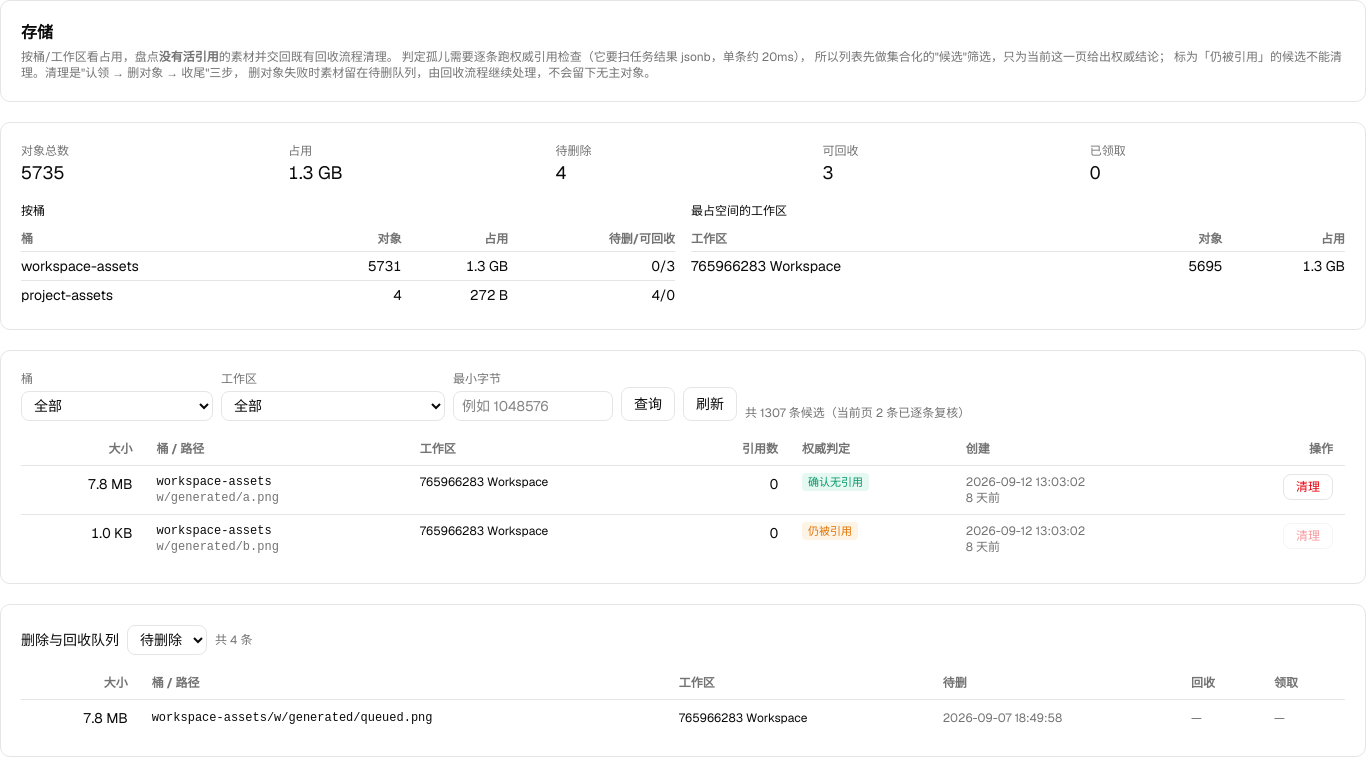
admin storage section › purges only after an inline reason and confirmation
expect the table with test id "admin-storage-orphans" is shown: met, box [21,433,1345,563]
Click the button "清理" in the row of "确认无引用" at point(1308, 487), box [1283,474,1333,500]
(page scrolled)
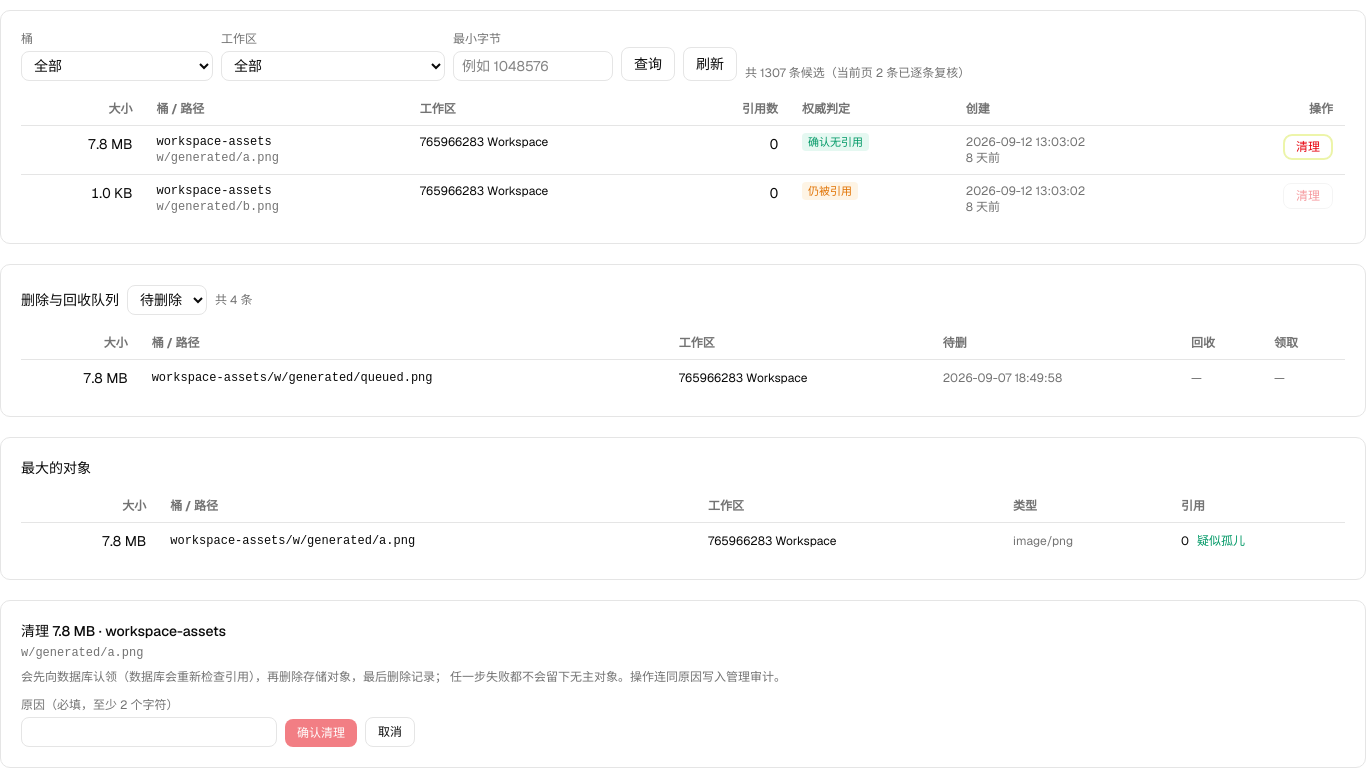
expect the element with test id "admin-storage-confirm" shows "workspace-assets": met, box [105,622,226,640]
expect the button "确认清理" is disabled: met, box [285,719,357,747]
Type "确认没有引用" into the field named "清理原因" at point(149, 732), box [21,717,277,747]
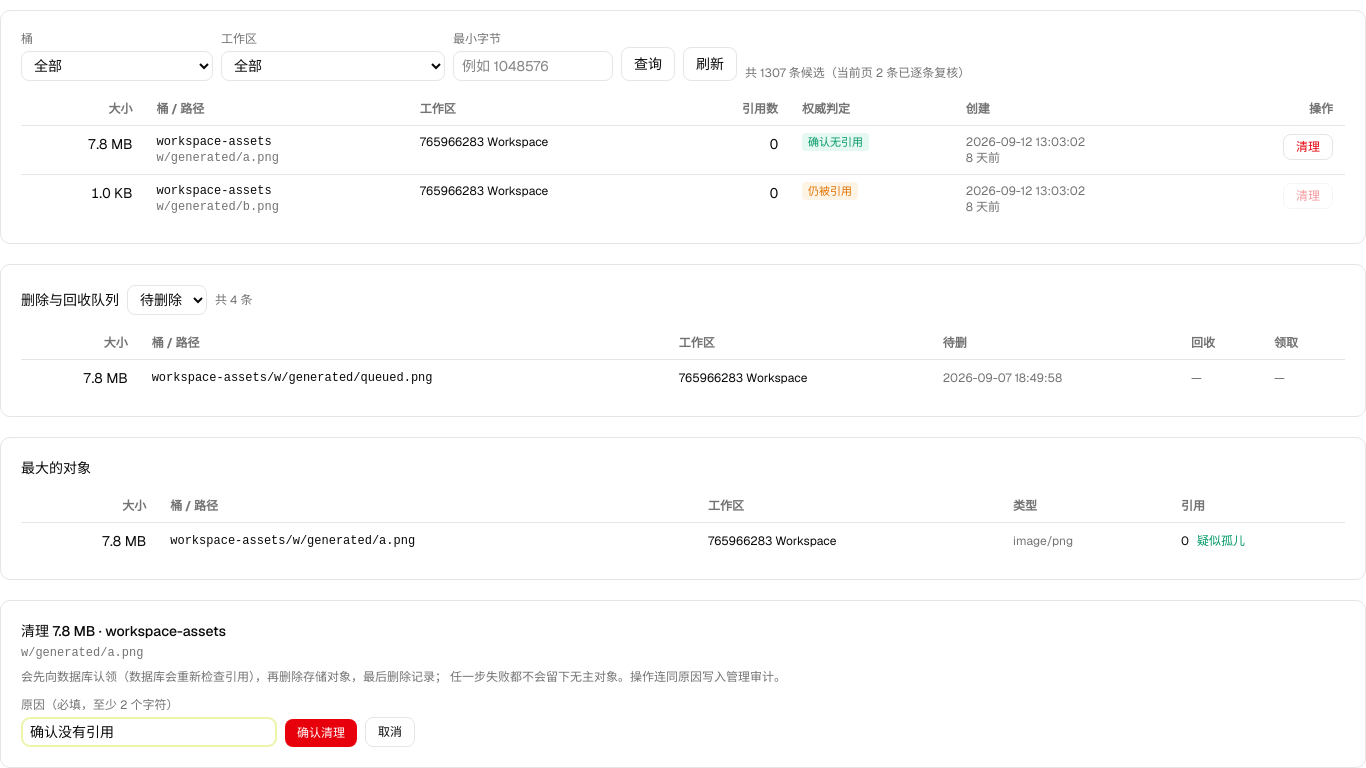
Click the button "确认清理" at point(321, 733), box [285,719,357,747]
(page scrolled)
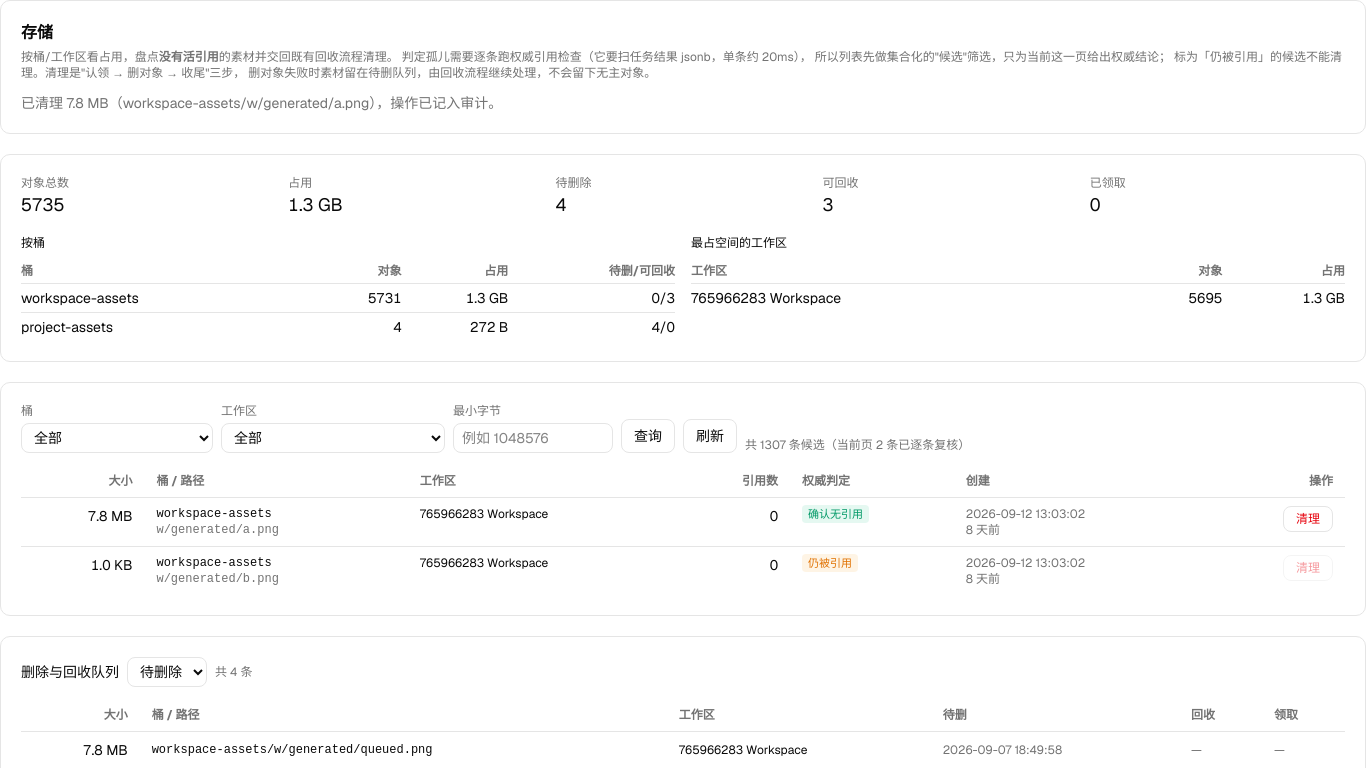
expect the text with test id "admin-storage-feedback" shows "已清理 7.8 MB": met, box [21,94,502,112]
